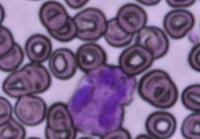E: (66, 65, 137, 137)
